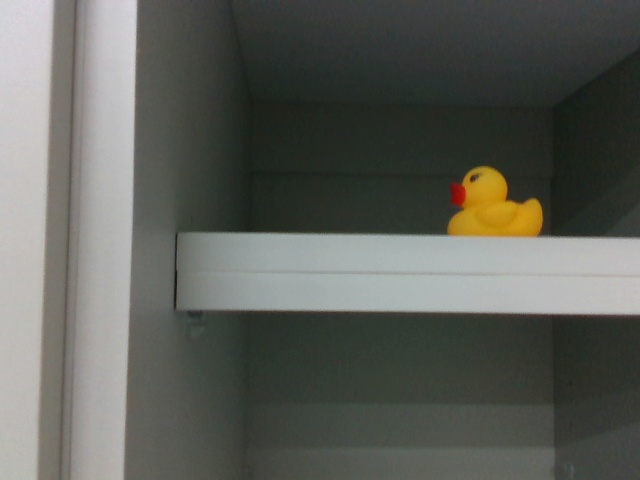duck: (446, 165, 548, 236)
